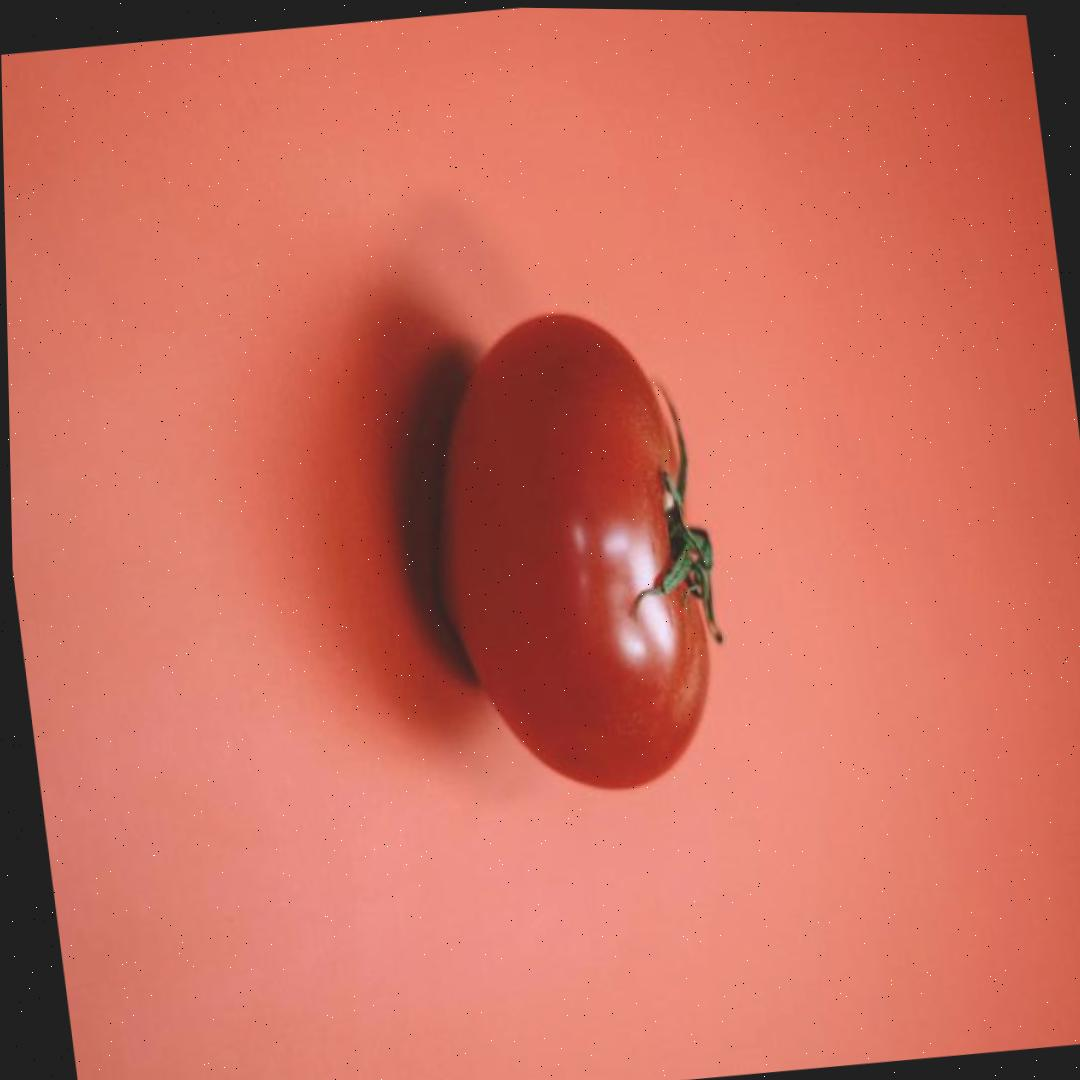matang: (402, 296, 727, 807)
